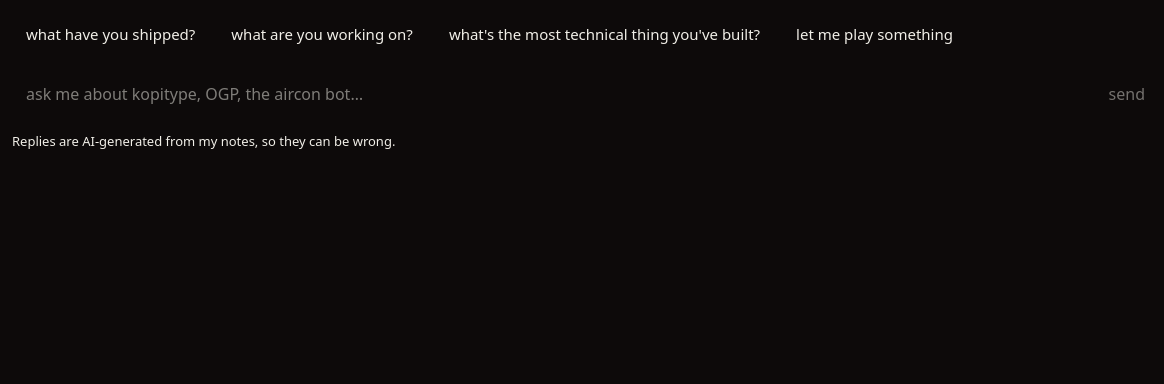
Scenario: homepage chat › never shows a see-the-full-site prompt, even after several answers
Type "hello" into the field named "Ask Anselm" at (557,94), box [26,74,1088,114]
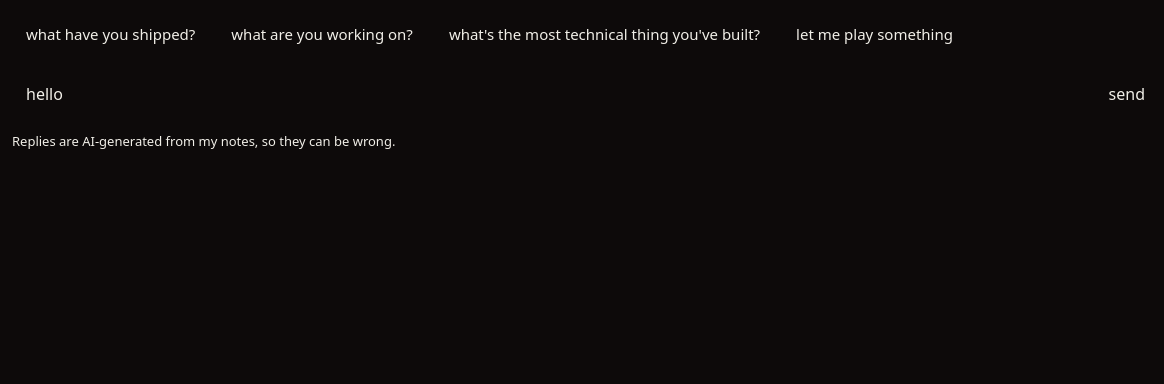
Click the button "send" at (1127,94), box [1096,74,1158,114]
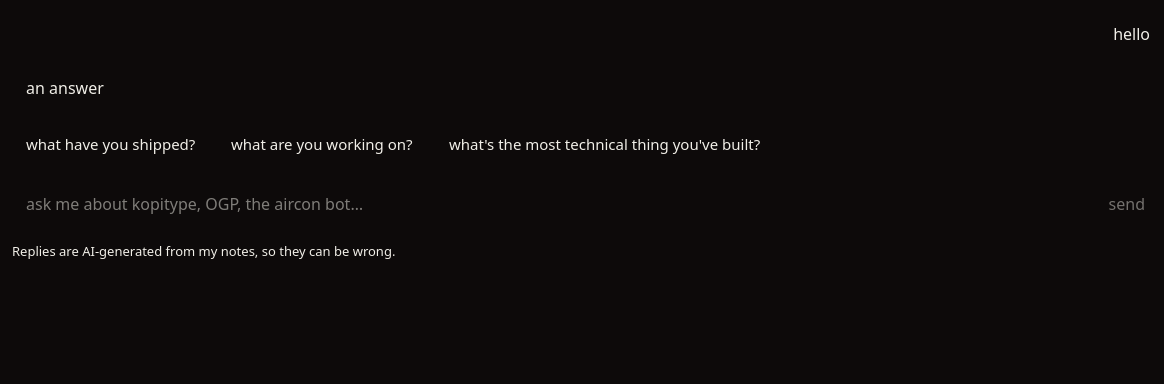
Now the text "an answer" is shown, box [26,77,104,99]
Type "and?" into the field named "Ask Anselm" at (557,204), box [26,184,1088,224]
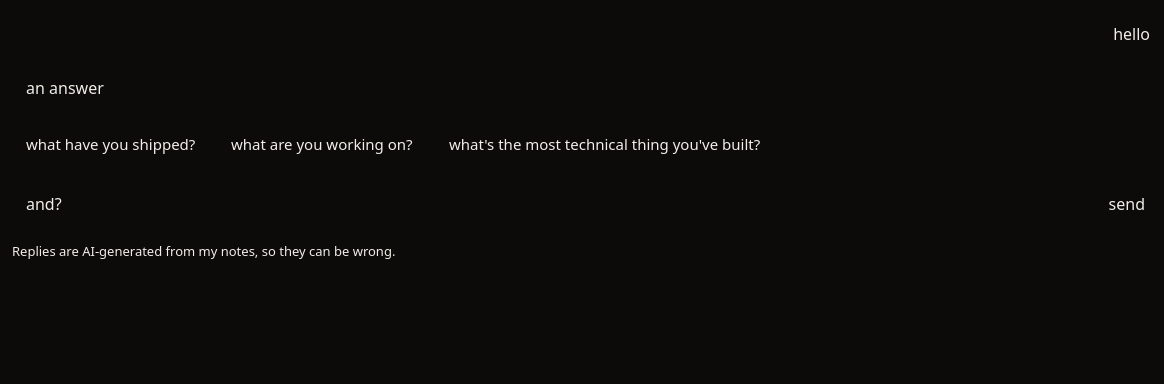
Click the button "send" at (1127,204), box [1096,184,1158,224]
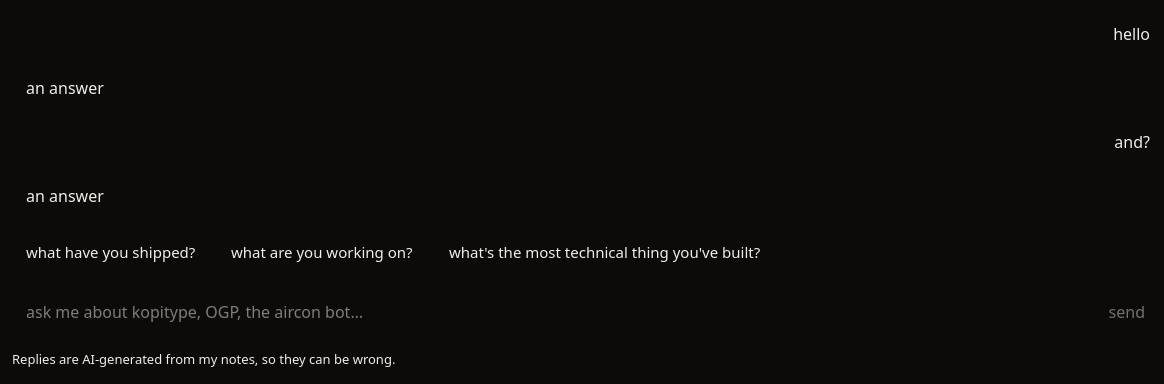
Now the text "an answer" is shown 2 times, box [26,77,104,99]; [26,185,104,207]
